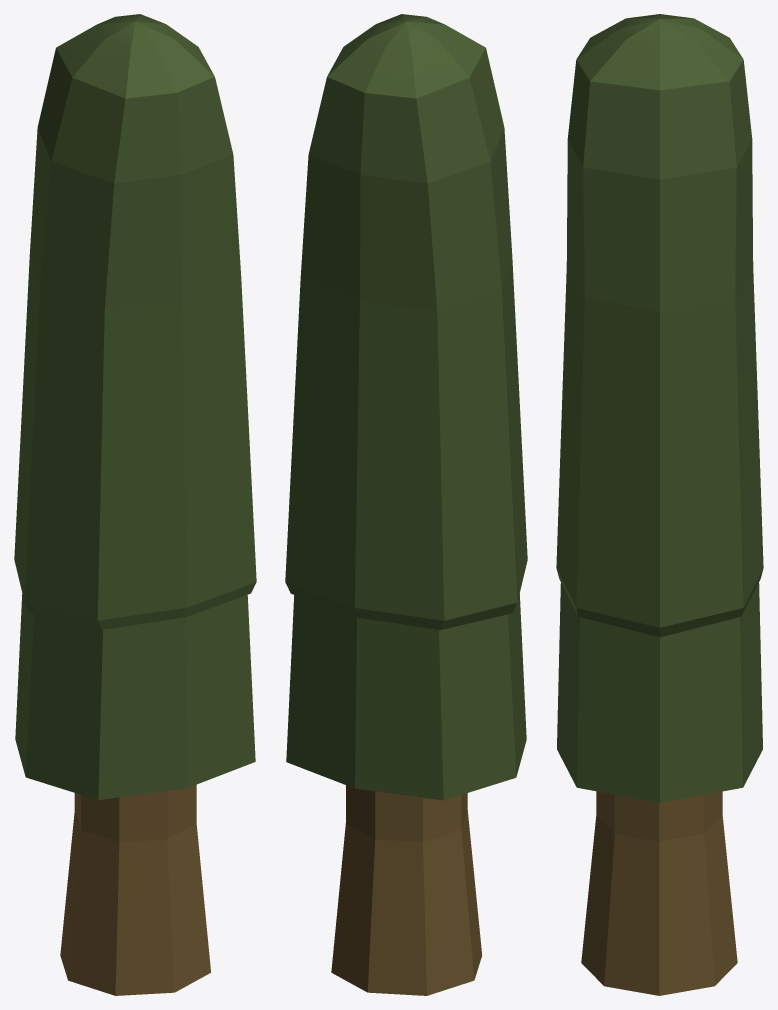
Rendered from Proto_Tree_05.fbx.
3 renders of one model, left to right at view 1: azimuth 30°, elevation 25°; view 2: azimuth 150°, elevation 25°; view 3: azimuth 270°, elevation 25°, orthographic.
Parts seen in each view (by area): view 1: polySurface1248; view 2: polySurface1248; view 3: polySurface1248.
Part boxes in pixels (x1=…): polySurface1248: x1=14, y1=14, x2=256, y2=995; polySurface1248: x1=285, y1=14, x2=527, y2=995; polySurface1248: x1=556, y1=14, x2=763, y2=995.
Size of the model in its own units: 6.27 by 25.43 by 5.06.
